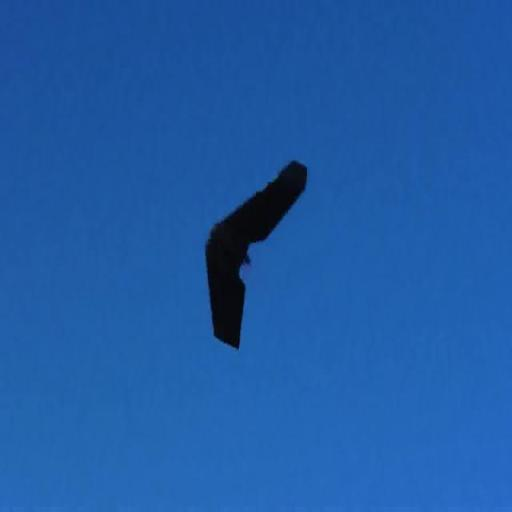uav: (197, 150, 311, 359)
